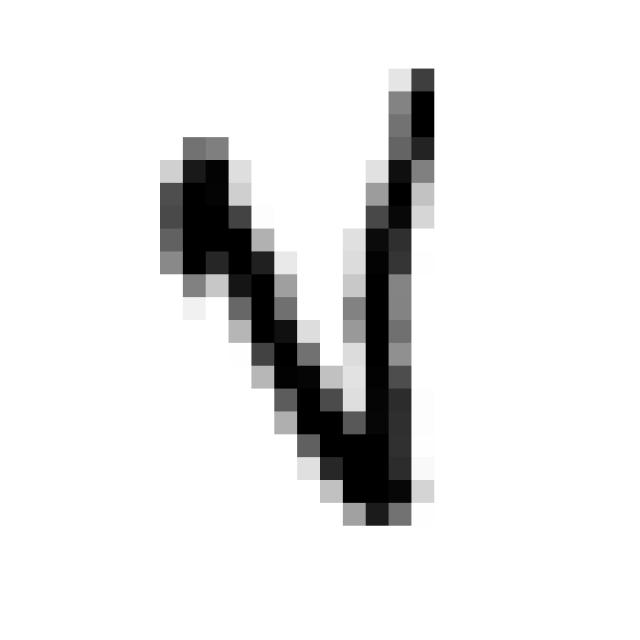7 -seven-: (133, 50, 464, 540)
